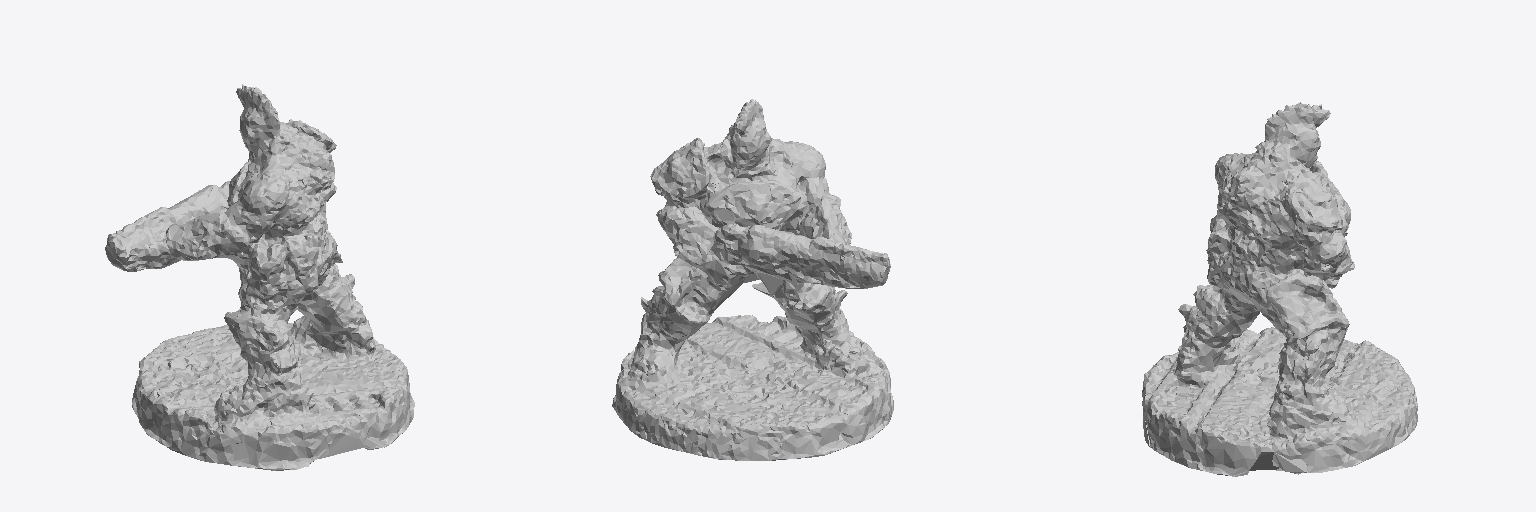
The model's file is Goliaths_7.obj.
3 renders of one model, left to right at view 1: azimuth 30°, elevation 25°; view 2: azimuth 150°, elevation 25°; view 3: azimuth 270°, elevation 25°, orthographic.
Visible parts, largest first — view 1: Goliaths_7; view 2: Goliaths_7; view 3: Goliaths_7.
Part boxes in pixels (bbox=[...]): Goliaths_7: bbox=[105, 84, 414, 470]; Goliaths_7: bbox=[612, 99, 893, 460]; Goliaths_7: bbox=[1142, 102, 1417, 476].
Size of the model in its own units: 1.34 by 1.52 by 1.2.